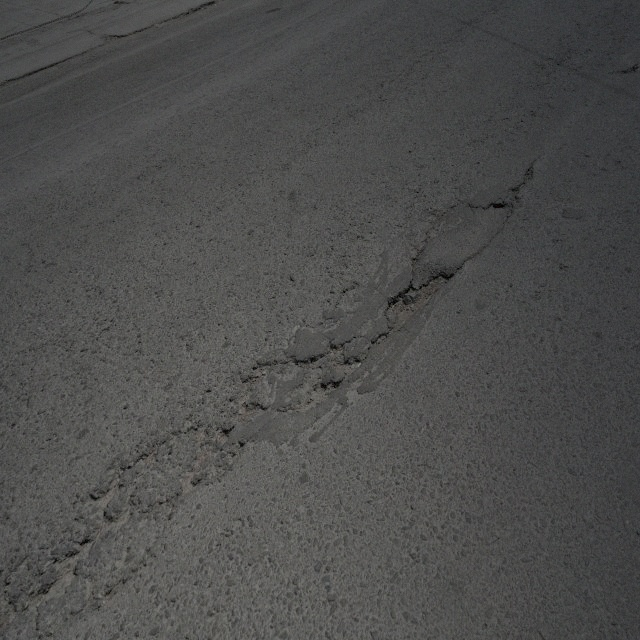pothole: (385, 264, 455, 338), (299, 335, 362, 413), (90, 466, 126, 540), (42, 542, 86, 601), (242, 356, 272, 419), (510, 164, 536, 202)
